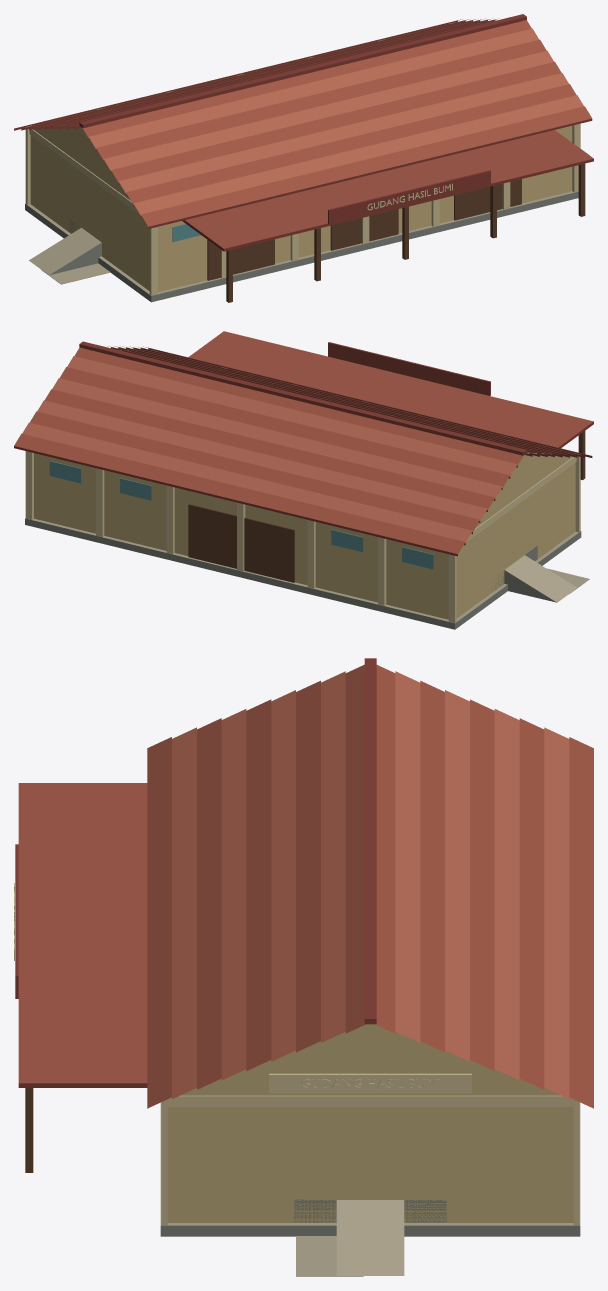
The model's file is riverside-farm-kit.glb.
3 views of the same model, one above another, from view 1: azimuth 30°, elevation 25°; view 2: azimuth 150°, elevation 25°; view 3: azimuth 270°, elevation 25° (orthographic). The views are drawn at different scales.
Visible parts, largest first — view 1: KIT-RV-warehouse-produce, KIT-RV-loading-dock-24m; view 2: KIT-RV-warehouse-produce, KIT-RV-loading-dock-24m; view 3: KIT-RV-warehouse-produce, KIT-RV-loading-dock-24m.
Boxes of the visible parts, box(x1,y1,x2,y2) form: KIT-RV-warehouse-produce: box(14, 14, 593, 302); KIT-RV-loading-dock-24m: box(29, 149, 589, 284); KIT-RV-warehouse-produce: box(14, 331, 593, 629); KIT-RV-loading-dock-24m: box(491, 545, 589, 602); KIT-RV-warehouse-produce: box(14, 658, 593, 1236); KIT-RV-loading-dock-24m: box(294, 1199, 446, 1276).
Size of the model in its own units: 30 by 7.78 by 17.14.
